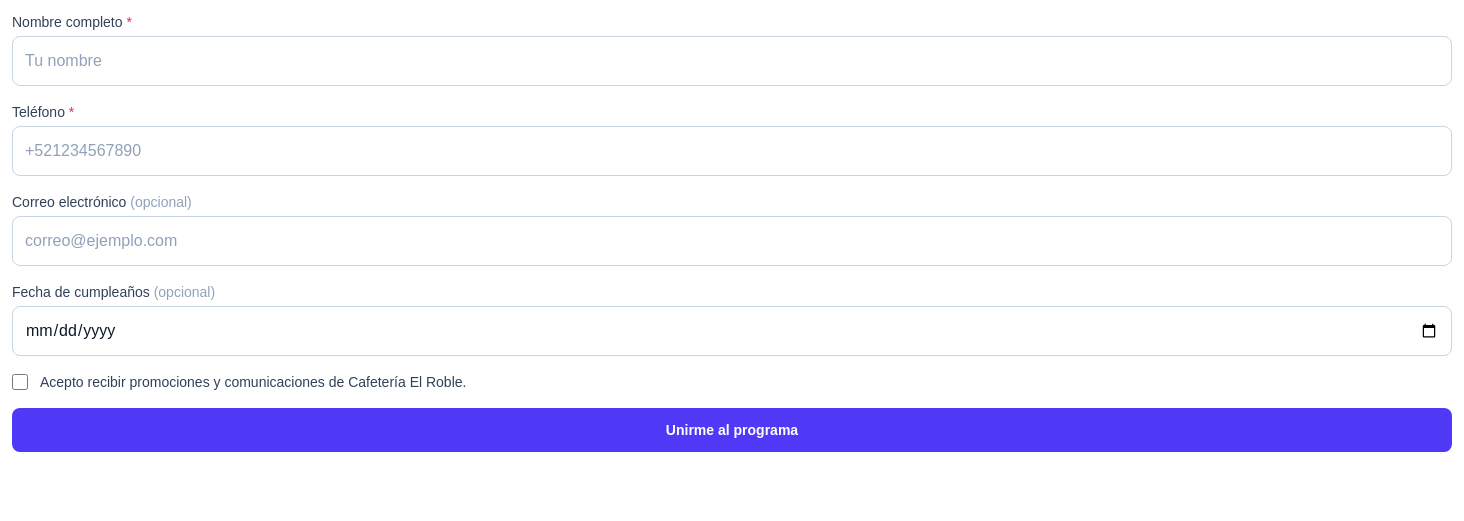
Test: PublicRegistrationForm integration › shows a generic error message on invalid submit
Submit with all fields empty to trigger validation failure.
What coordinates should you click on to do the following:
click the button "Unirme al programa"
I would click on:
 (732, 430)
Its box is [12, 408, 1452, 452].
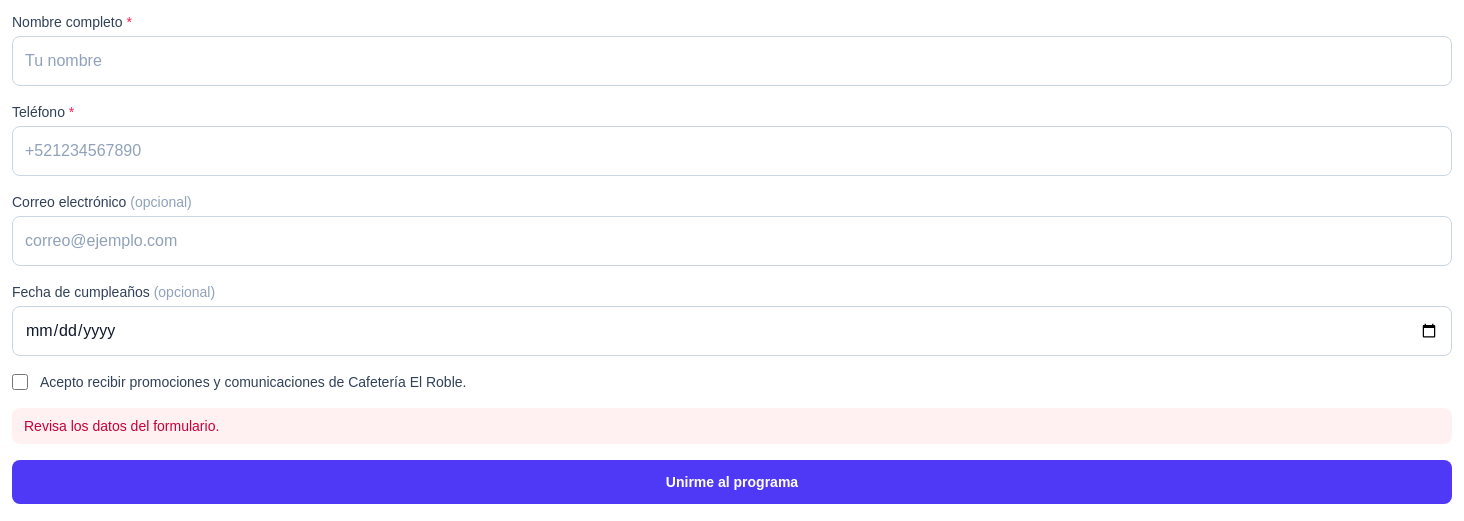
Expected: the text "Revisa los datos del formulario." is shown, [12, 408, 1452, 444]
